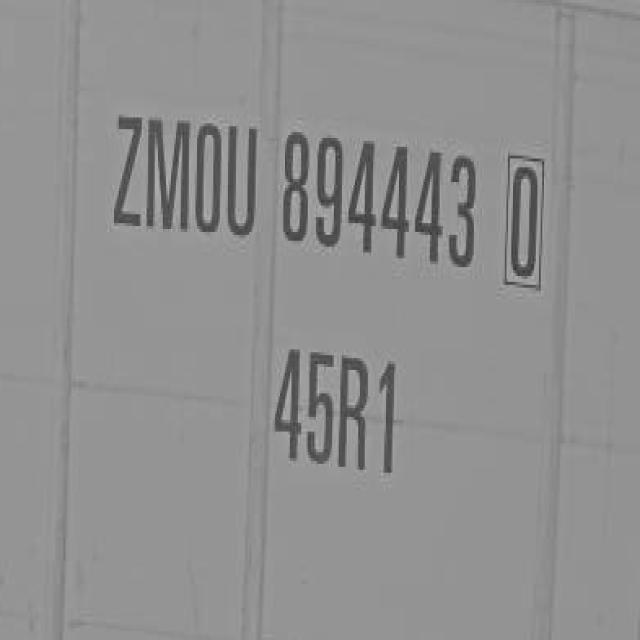dv: (500, 143, 554, 297)
owner: (111, 95, 261, 255)
serial: (281, 112, 481, 296)
size: (265, 336, 410, 487)
